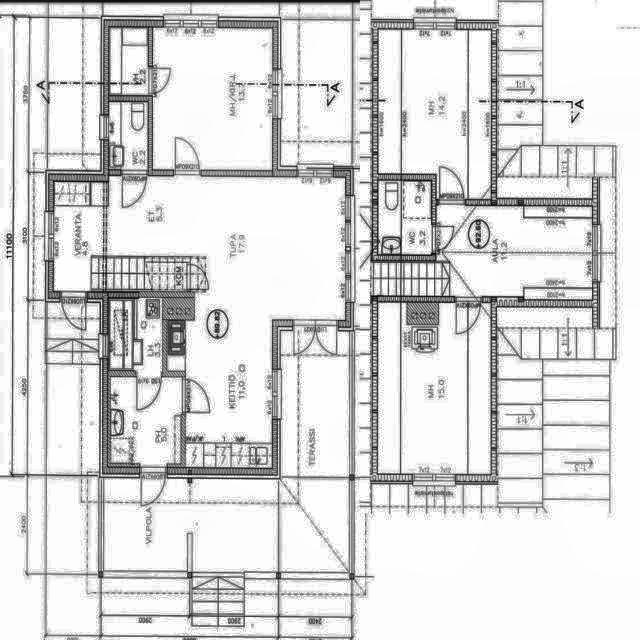room: (378, 302, 491, 474), (378, 29, 491, 199), (153, 28, 272, 170), (111, 377, 181, 463), (378, 180, 431, 255), (108, 298, 163, 370), (109, 27, 148, 95), (109, 102, 148, 170)
